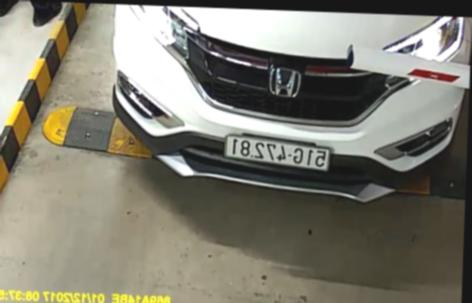License_Plate: (222, 134, 333, 170)
